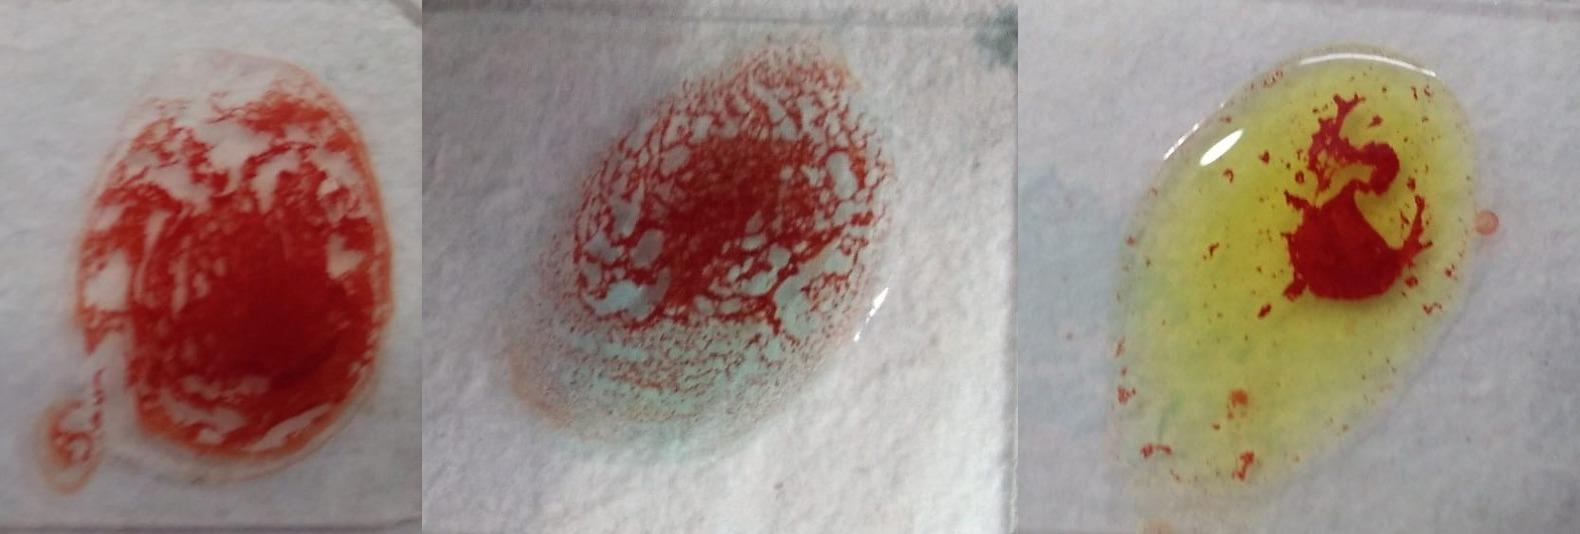A: (525, 25, 883, 456)
B: (1124, 35, 1478, 510)
D: (74, 42, 396, 500)
